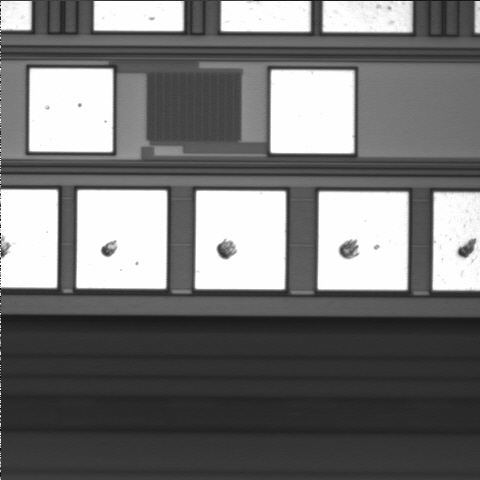pad: (76, 190, 167, 289), (195, 191, 286, 289), (318, 192, 408, 290), (29, 69, 113, 152), (271, 70, 354, 153)
